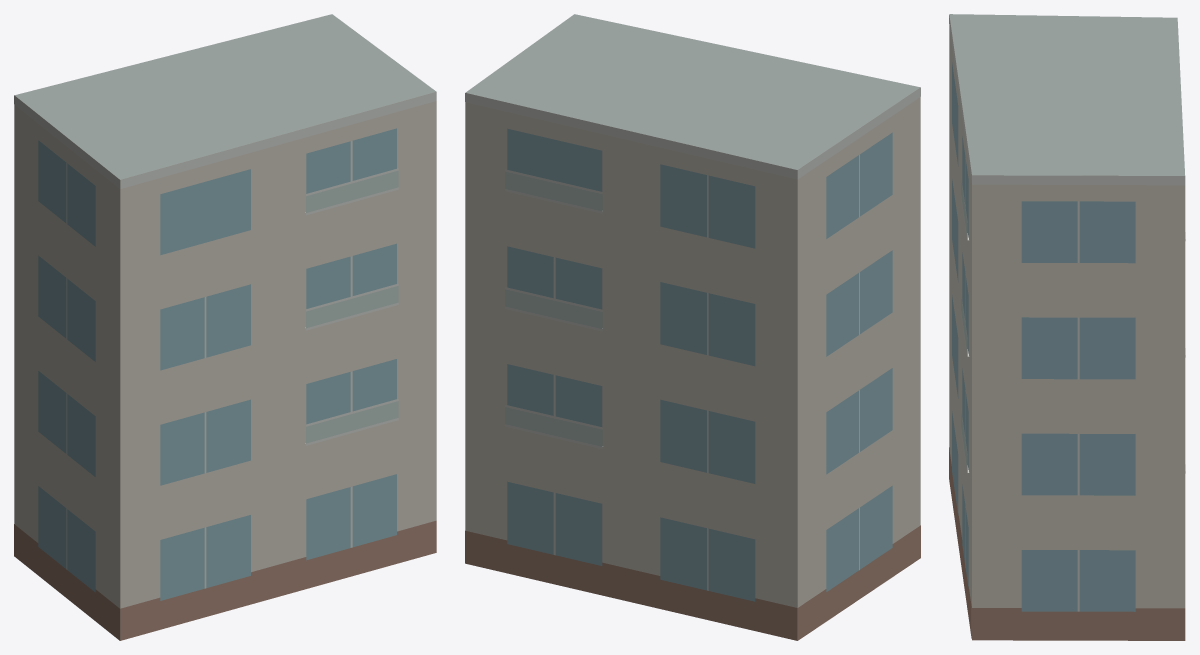
The model's file is survey-upis-32768488.glb.
3 views of the same model, side by side, from view 1: azimuth 30°, elevation 25°; view 2: azimuth 150°, elevation 25°; view 3: azimuth 270°, elevation 25° (orthographic). The views are drawn at different scales.
Visible parts, largest first — view 1: survey-upis-32768488.tmp; view 2: survey-upis-32768488.tmp; view 3: survey-upis-32768488.tmp.
Boxes of the visible parts, box(x1,y1,x2,y2) form: survey-upis-32768488.tmp: box(14, 14, 436, 640); survey-upis-32768488.tmp: box(465, 14, 920, 640); survey-upis-32768488.tmp: box(949, 14, 1185, 640).
Size of the model in its own units: 9.12 by 12.2 by 5.63.
